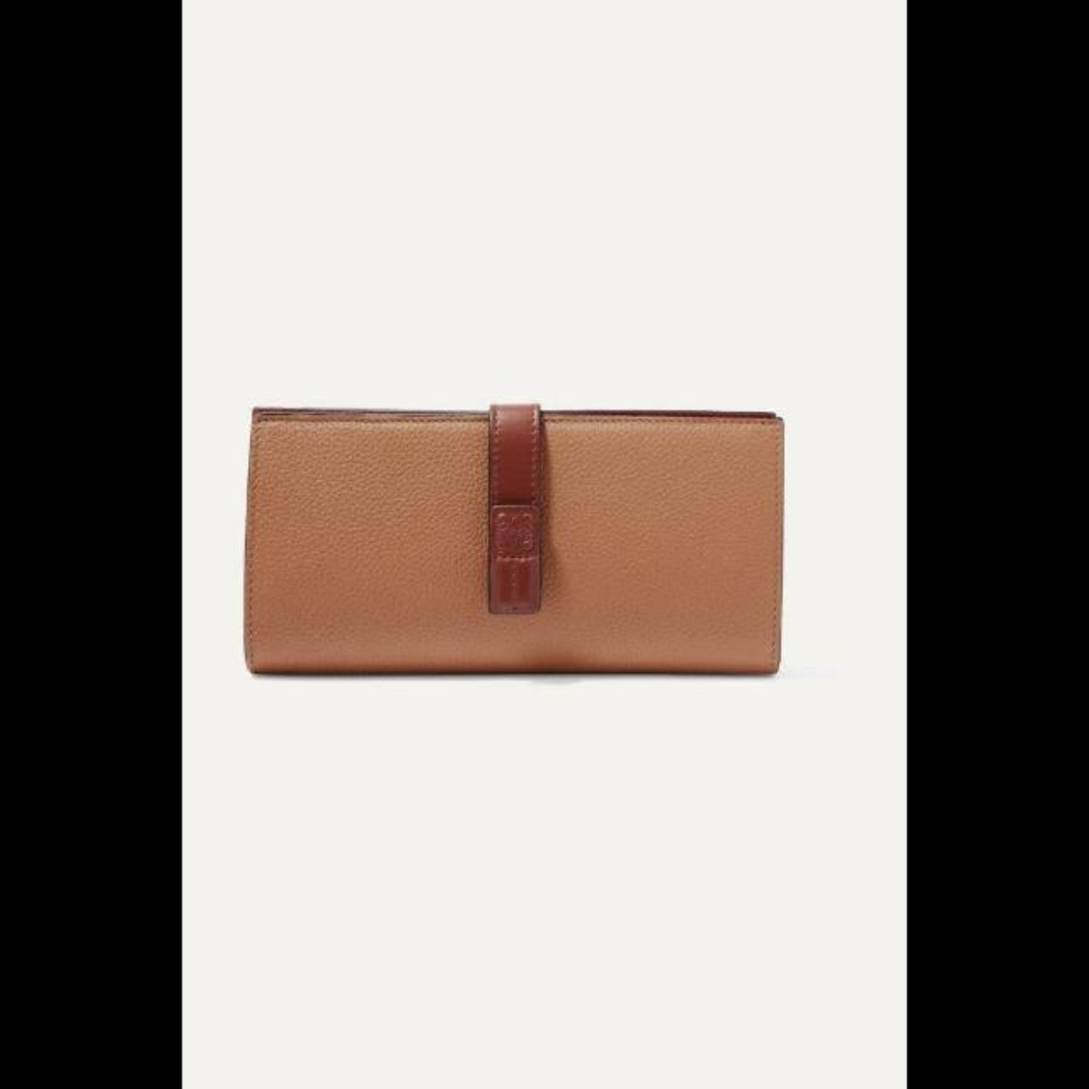wallet: (221, 386, 835, 699)
